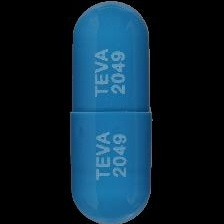68151-4281: (0, 0, 224, 224)
